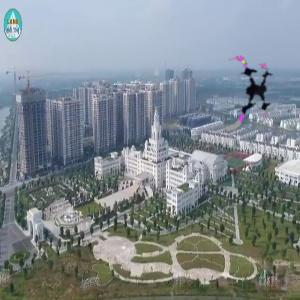drone: (212, 53, 288, 129)
